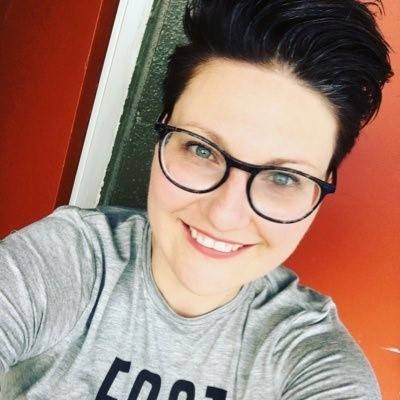face_no_mask: (149, 30, 331, 298)
